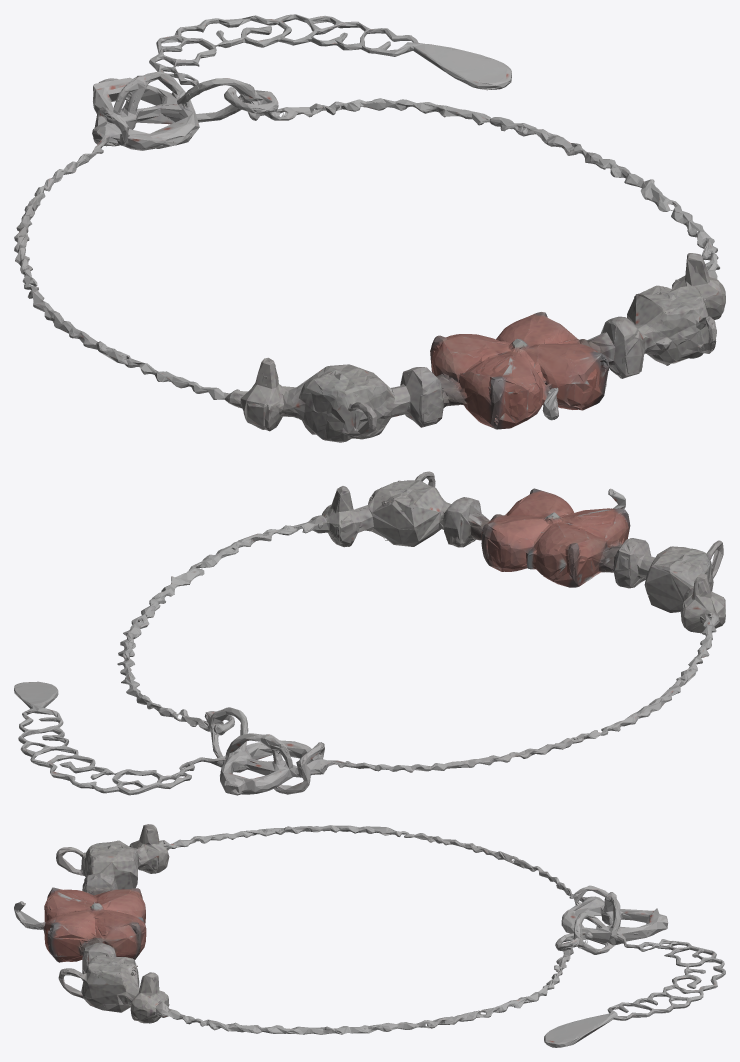
File: clover-bracelet.glb
3 views of the same model, one above another, from view 1: azimuth 30°, elevation 25°; view 2: azimuth 150°, elevation 25°; view 3: azimuth 270°, elevation 25° (orthographic). The views are drawn at different scales.
Visible parts, largest first — view 1: geometry_0; view 2: geometry_0; view 3: geometry_0.
Part boxes in pixels (x1=…): geometry_0: x1=14, y1=14, x2=725, y2=442; geometry_0: x1=14, y1=471, x2=725, y2=795; geometry_0: x1=14, y1=824, x2=725, y2=1047.
Size of the model in its own units: 0.7088 by 0.0795 by 0.9997.
Materials: 1 (1 with a texture image).
